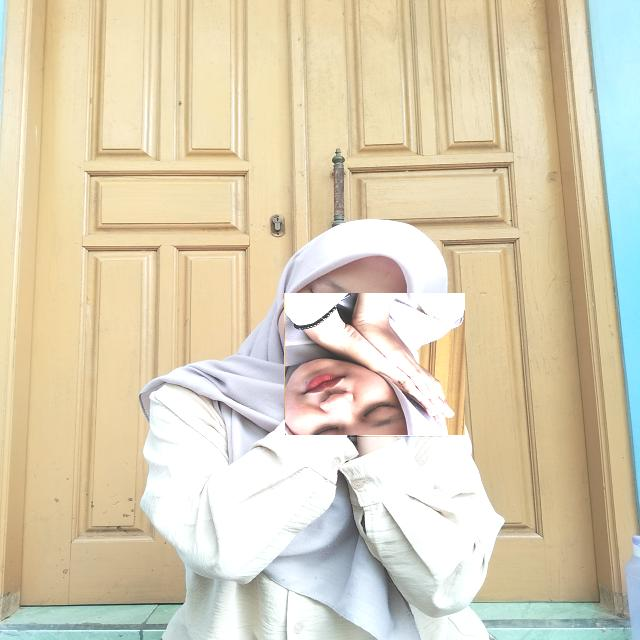tidur: (284, 294, 465, 438)
